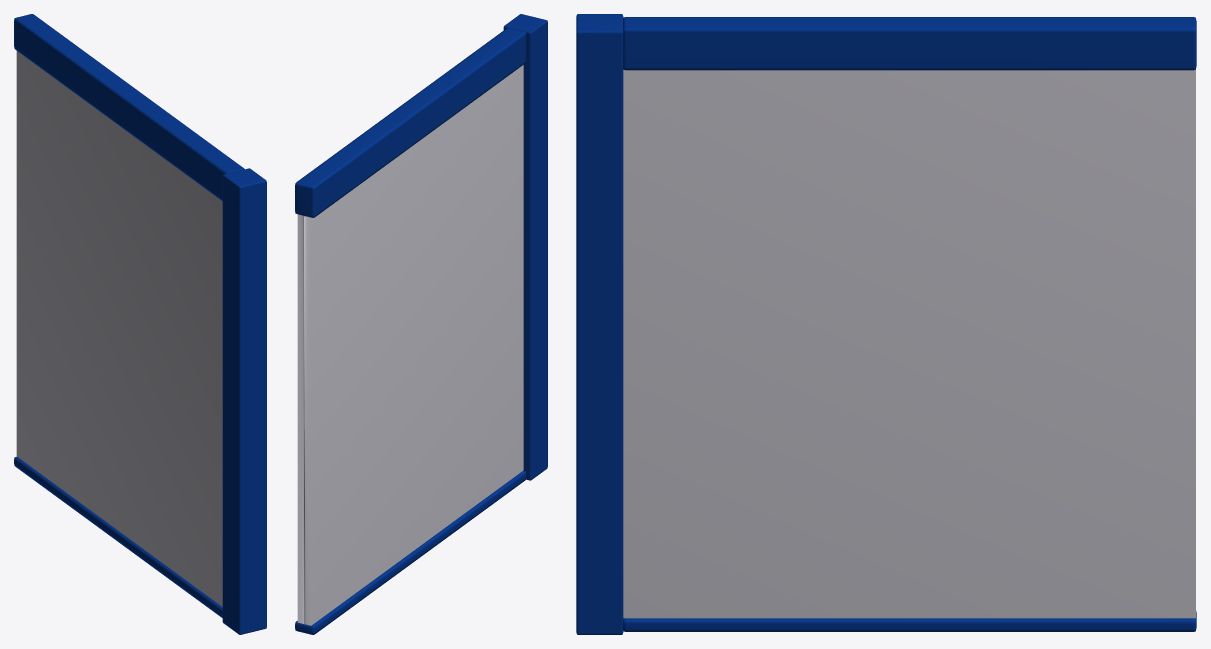
The model's file is WhiteWall_inner.fbx.
The picture shows the model from 3 angles, left to right: view 1: azimuth 30°, elevation 25°; view 2: azimuth 150°, elevation 25°; view 3: azimuth 270°, elevation 25°; orthographic projection. The views are drawn at different scales.
Parts seen in each view (by area): view 1: HP.002; view 2: HP.002; view 3: HP.002.
Boxes of the visible parts, x1,y1,x2,y2 form: HP.002: (14, 14, 266, 634); HP.002: (295, 14, 547, 634); HP.002: (576, 14, 1196, 634).
Size of the model in its own units: 12.86 by 200 by 186.
